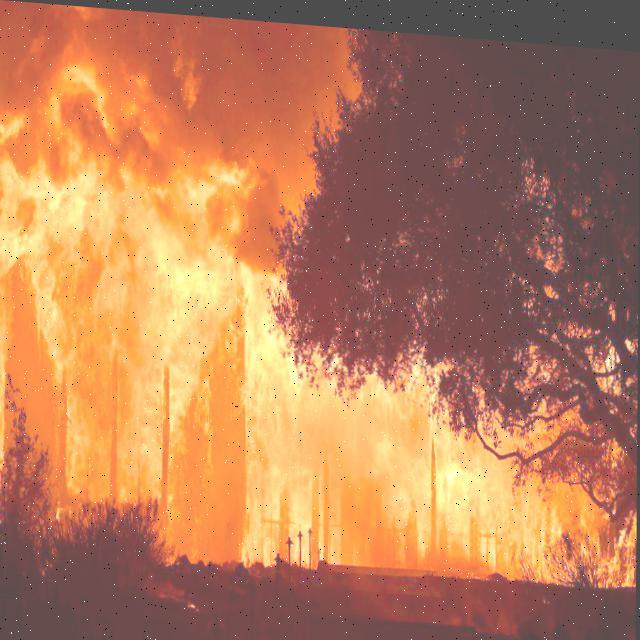Fire: (1, 12, 639, 593)
